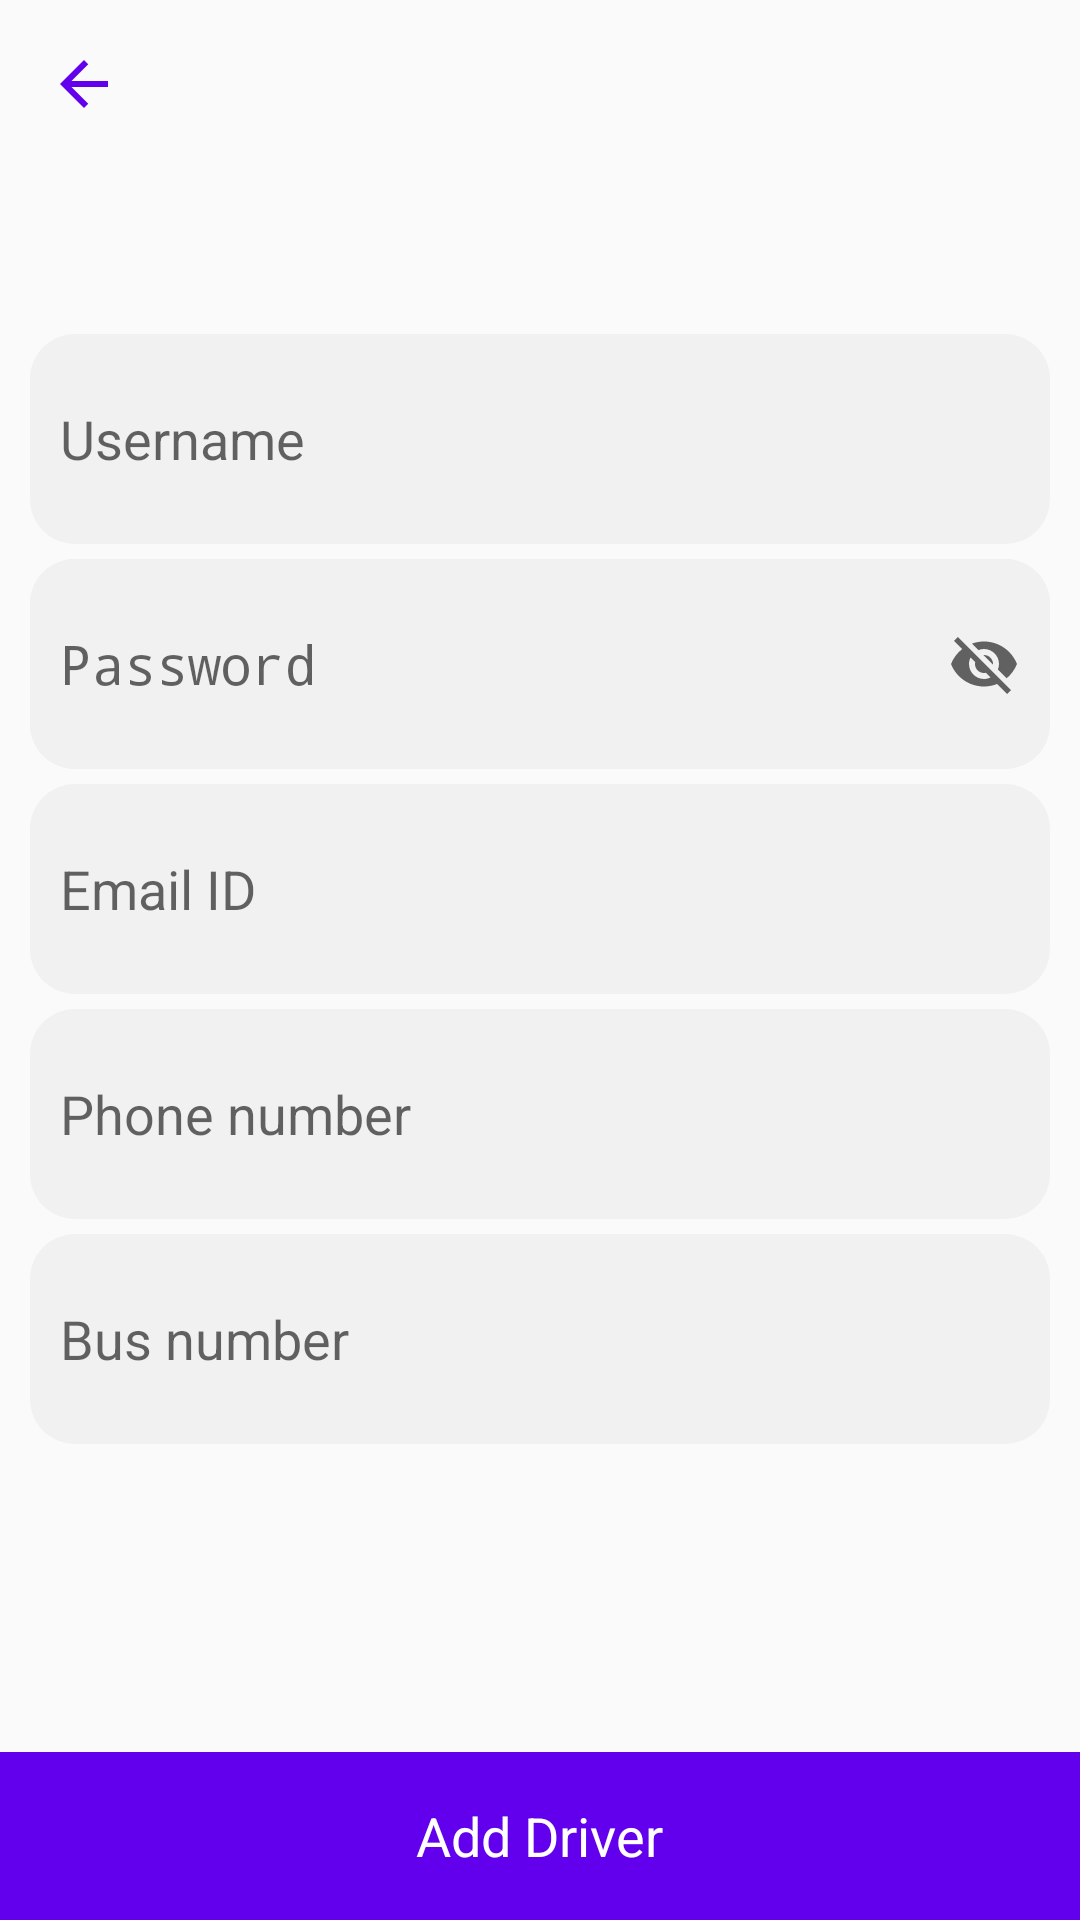

Locate icon controls on the screen. Image size 1080*1920, boxes as (x1, y1, x2, y2).
back arrow: (60, 60, 108, 108)
